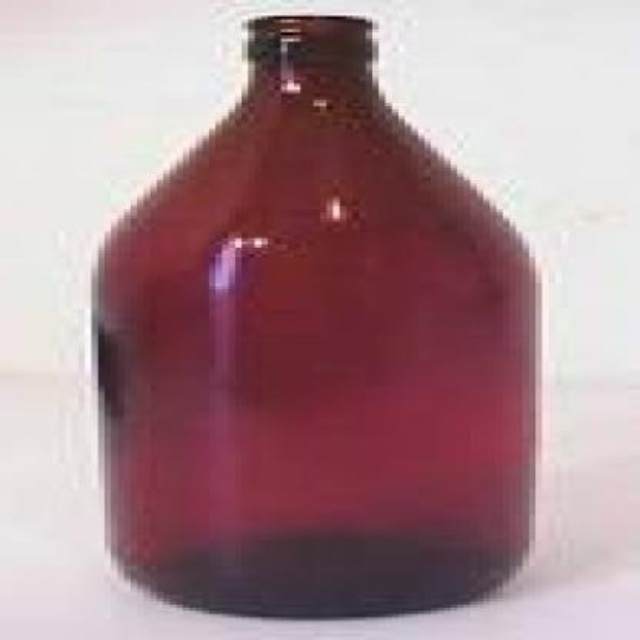trash: (97, 15, 534, 615)
